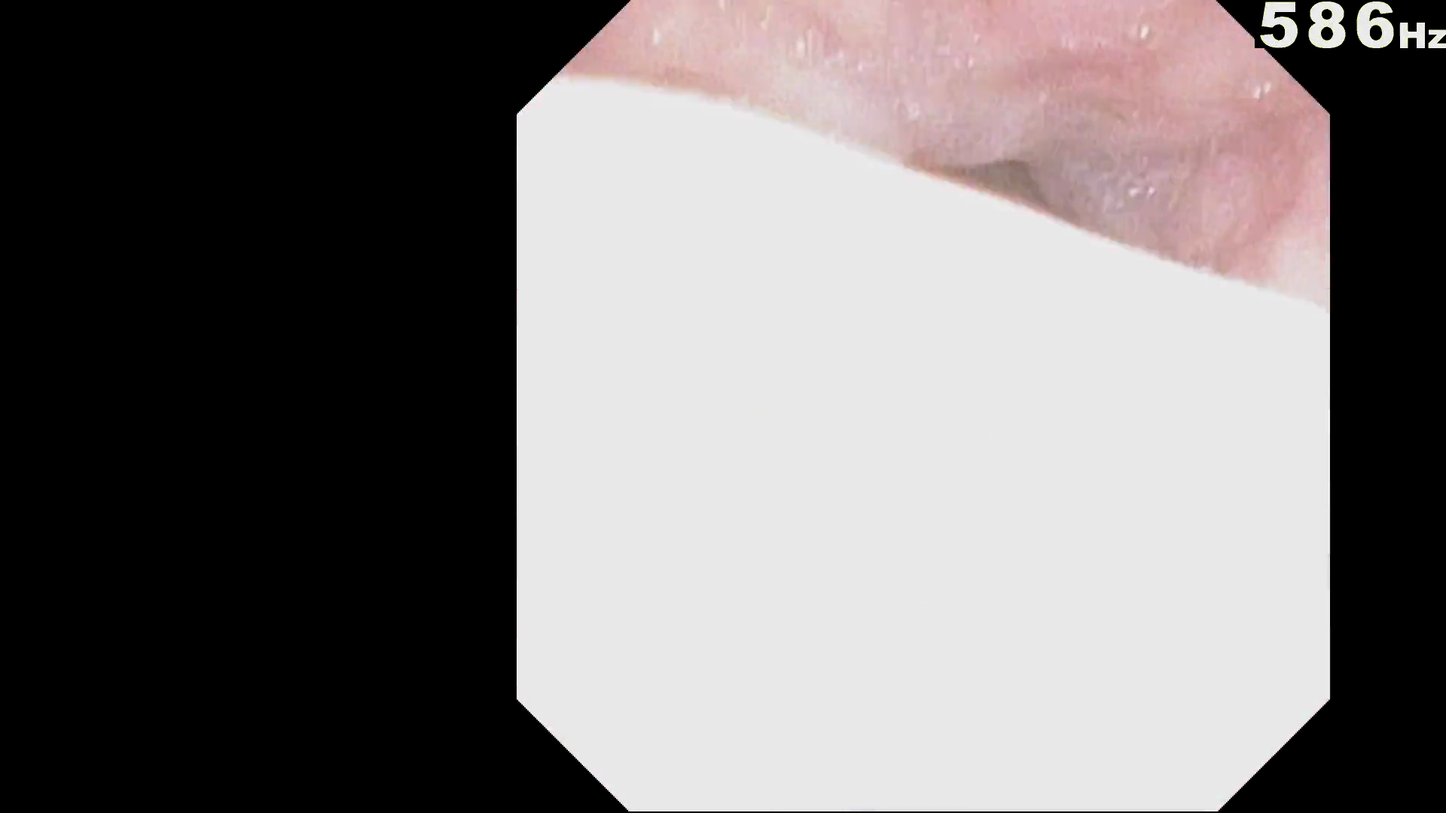epiglottis: (640, 275, 1293, 576)
